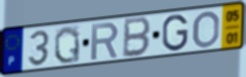3: (25, 29, 52, 68)
B: (121, 16, 152, 59)
G: (161, 13, 189, 53)
O: (191, 10, 221, 50)
Q: (53, 24, 82, 65)
R: (89, 21, 120, 62)
